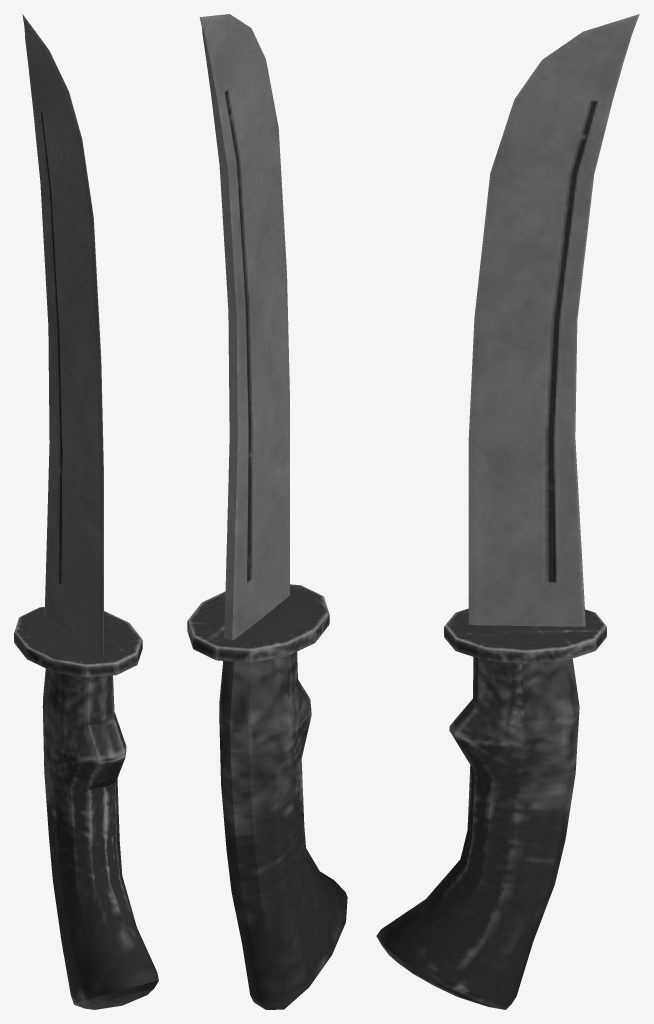
The model's file is knife.glb.
3 renders of one model, left to right at view 1: azimuth 30°, elevation 25°; view 2: azimuth 150°, elevation 25°; view 3: azimuth 270°, elevation 25°, orthographic. The views are drawn at different scales.
Visible parts, largest first — view 1: Dagger2; view 2: Dagger2; view 3: Dagger2.
Boxes of the visible parts, <box> form: Dagger2: <box>14,14,158,1009</box>; Dagger2: <box>187,14,347,1009</box>; Dagger2: <box>376,14,639,1009</box>.
Bounding box in the file's own units: 0.069 × 0.6004 × 0.1446.
1 material, 1 textured.
